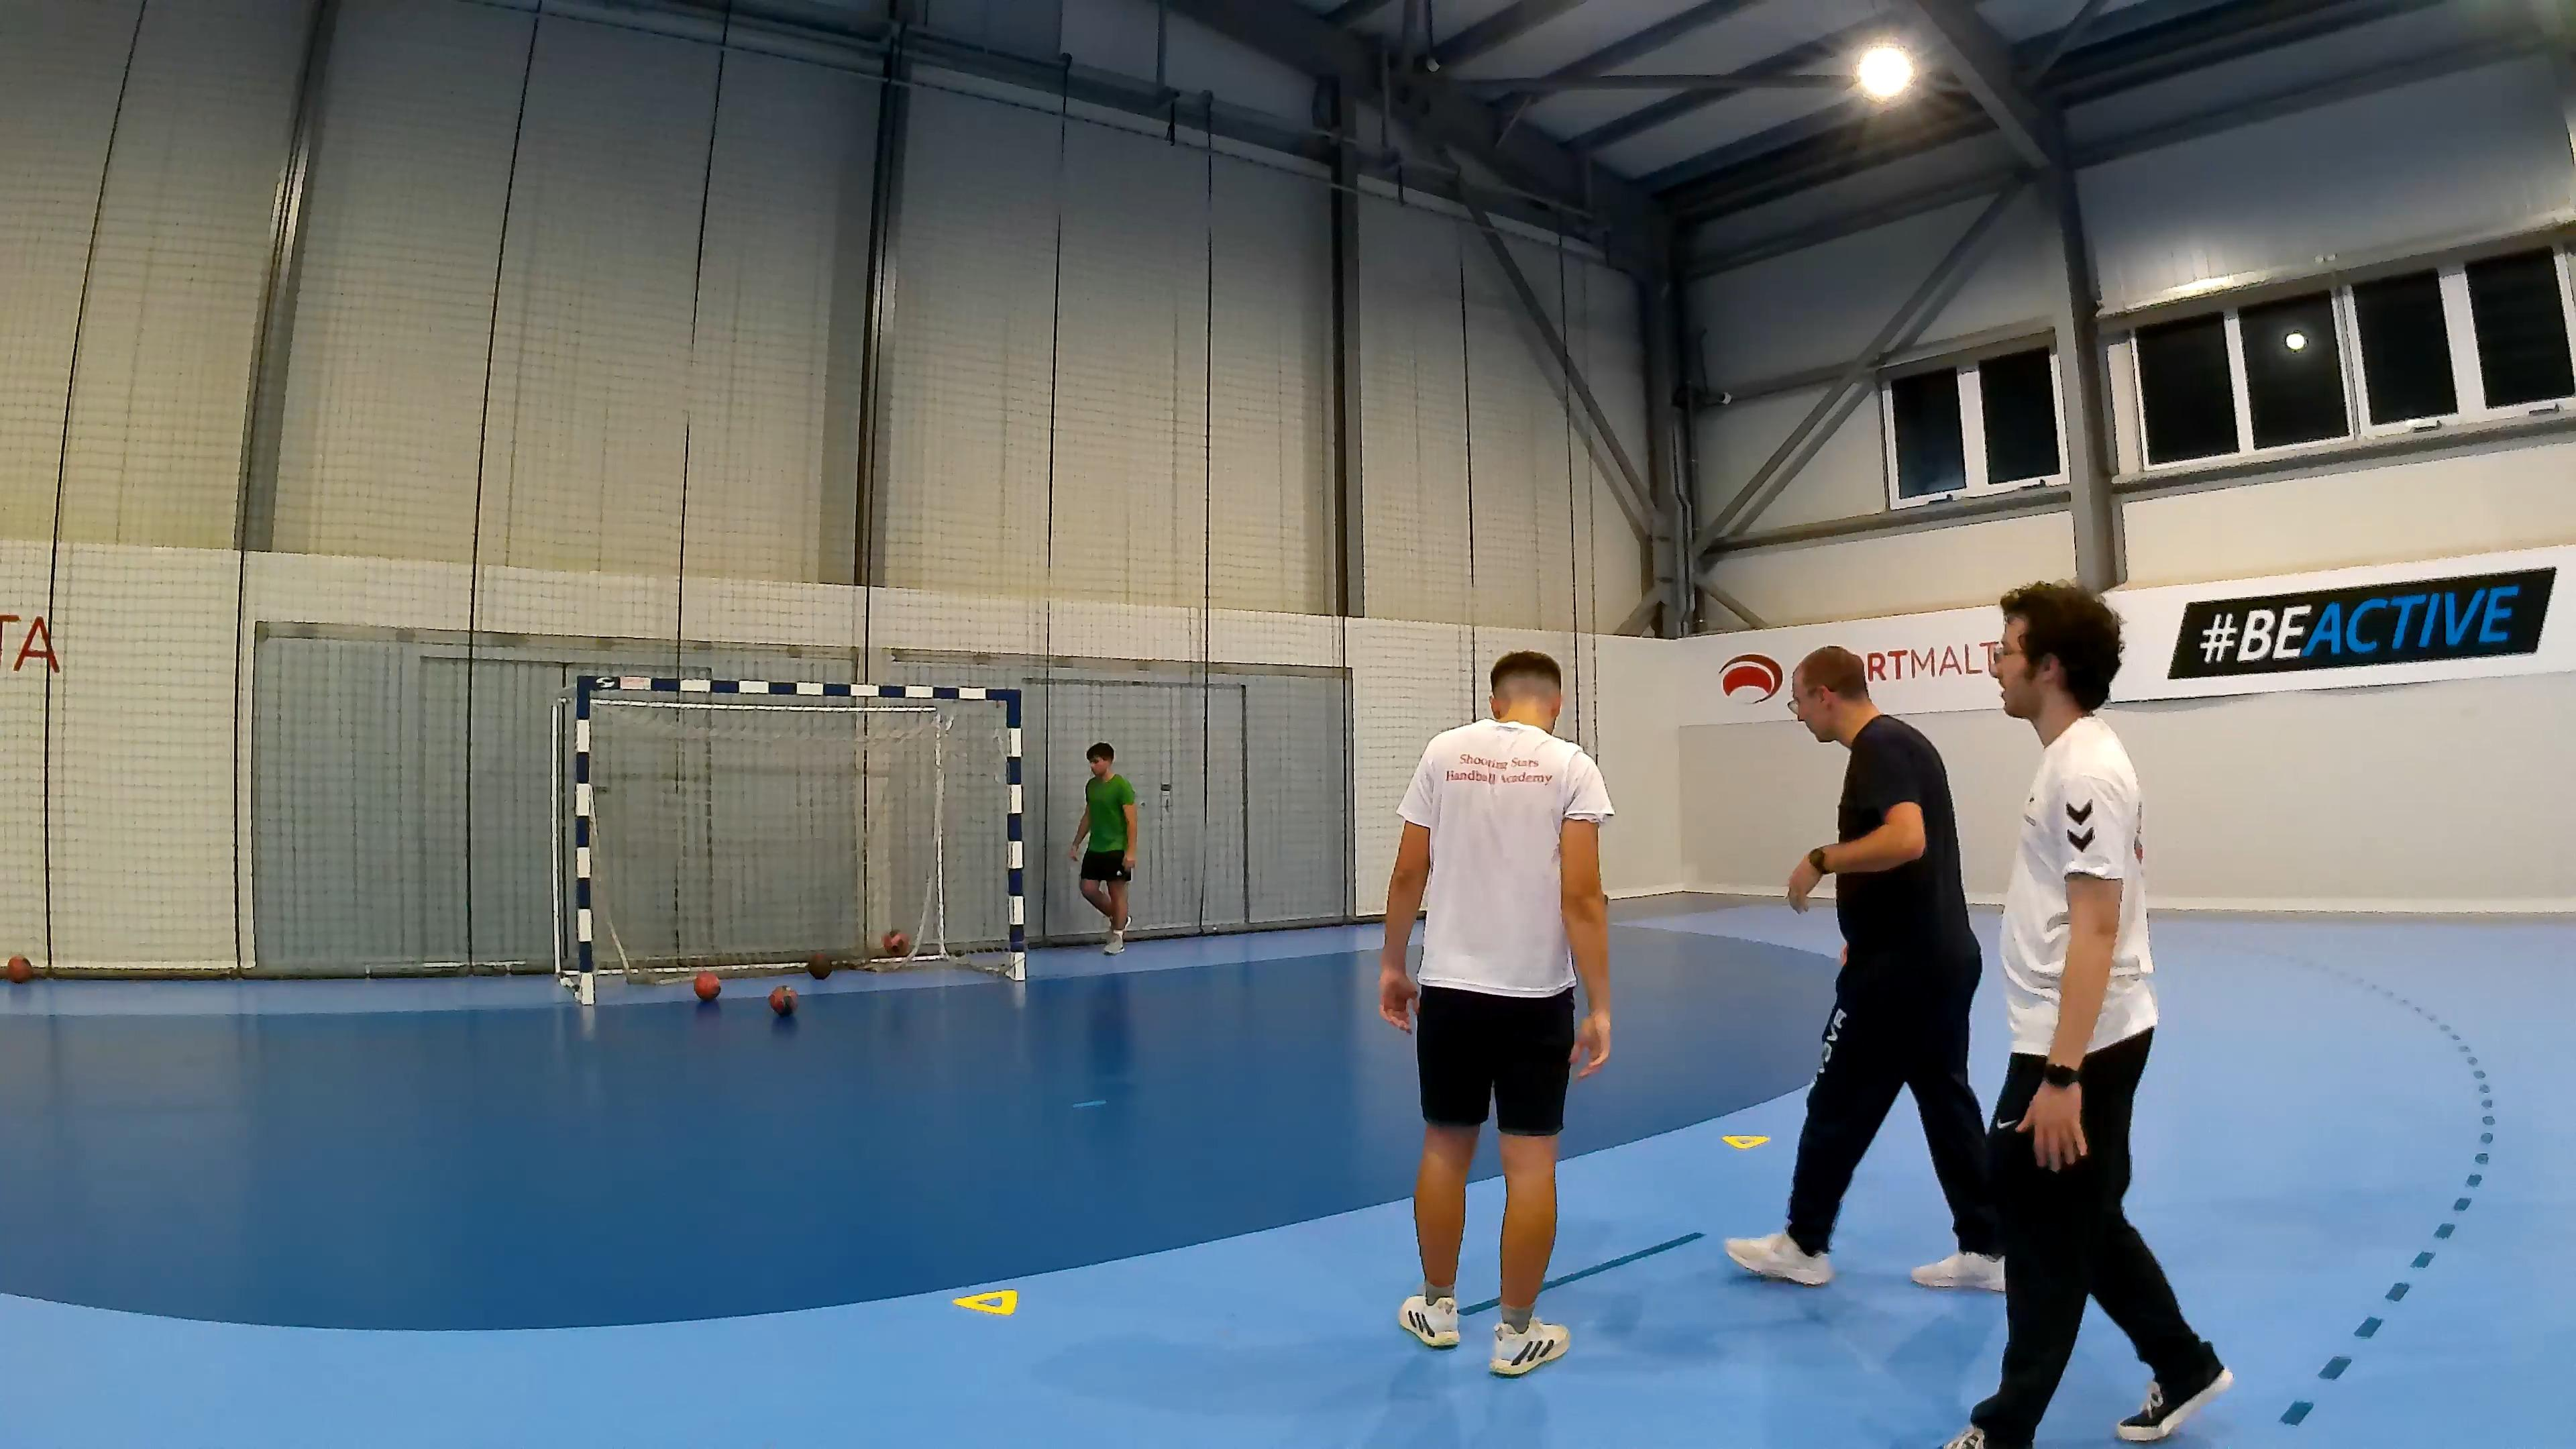handball: (768, 984, 796, 1016), (692, 970, 720, 1000), (881, 929, 909, 957), (807, 952, 832, 978)
